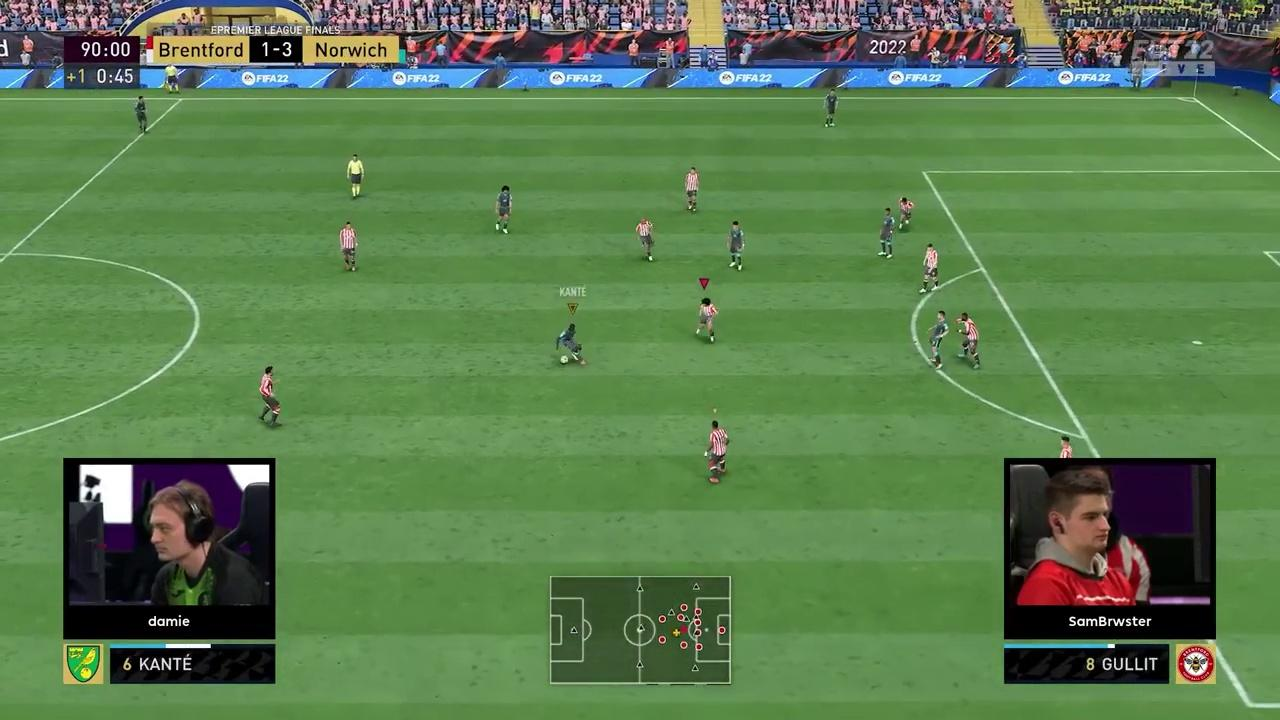scoreboard: (149, 36, 401, 68)
timestamp: (60, 32, 143, 89)
